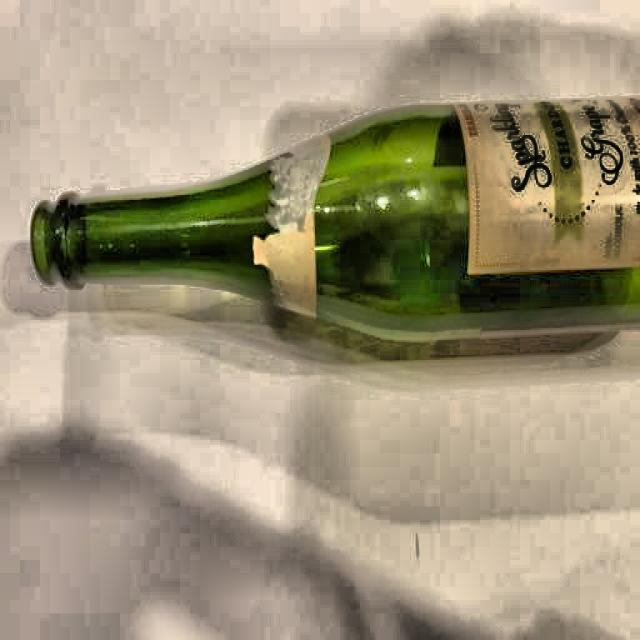glass: (31, 94, 640, 329)
